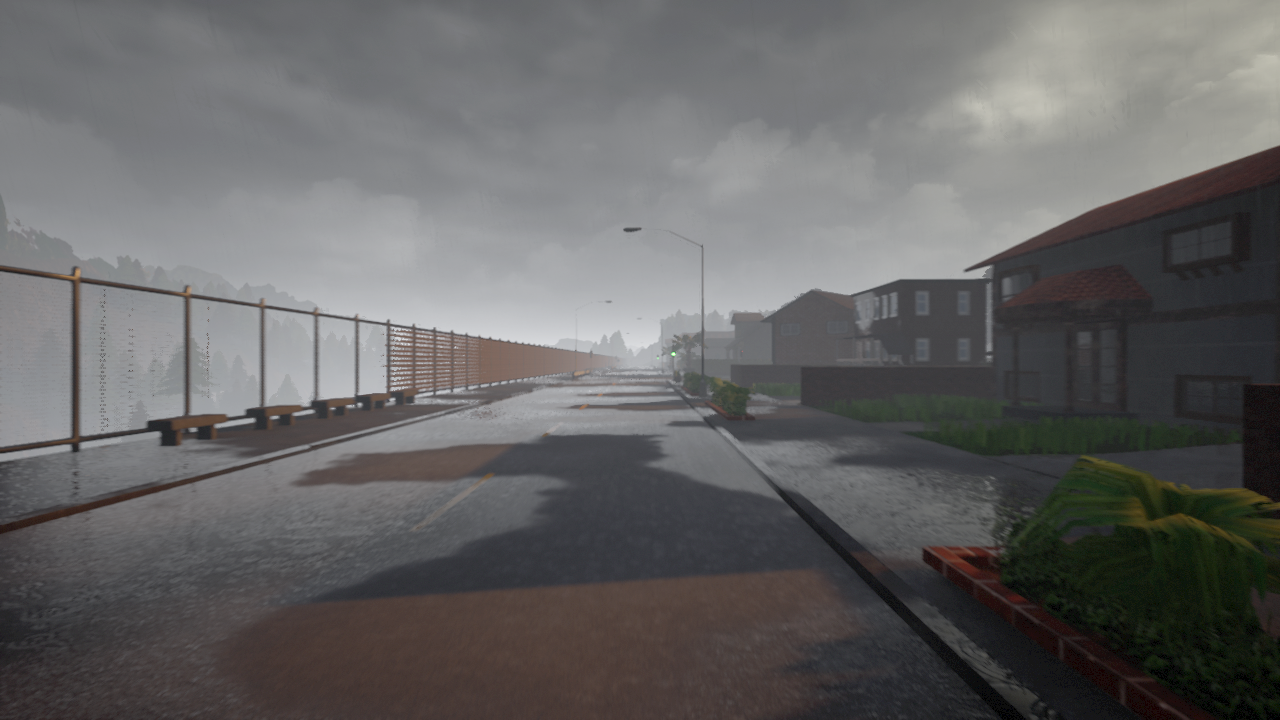green: (671, 344, 676, 357)
